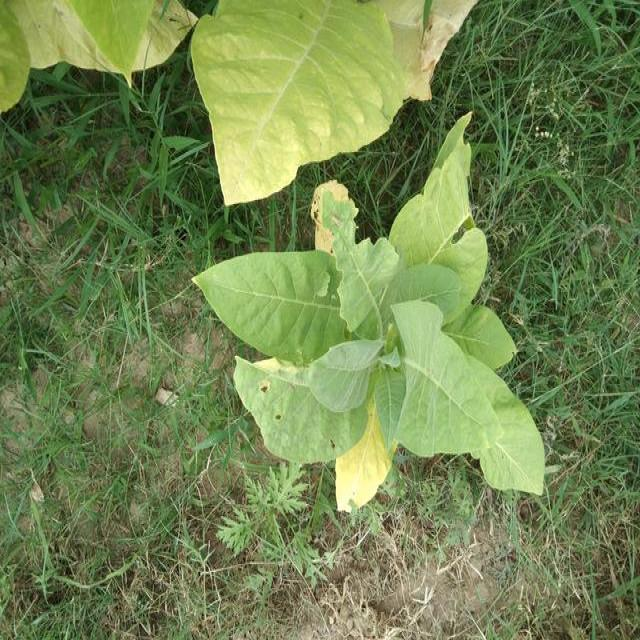crop: (190, 99, 558, 502)
